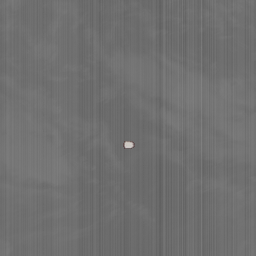Target: (121, 139, 136, 151)
